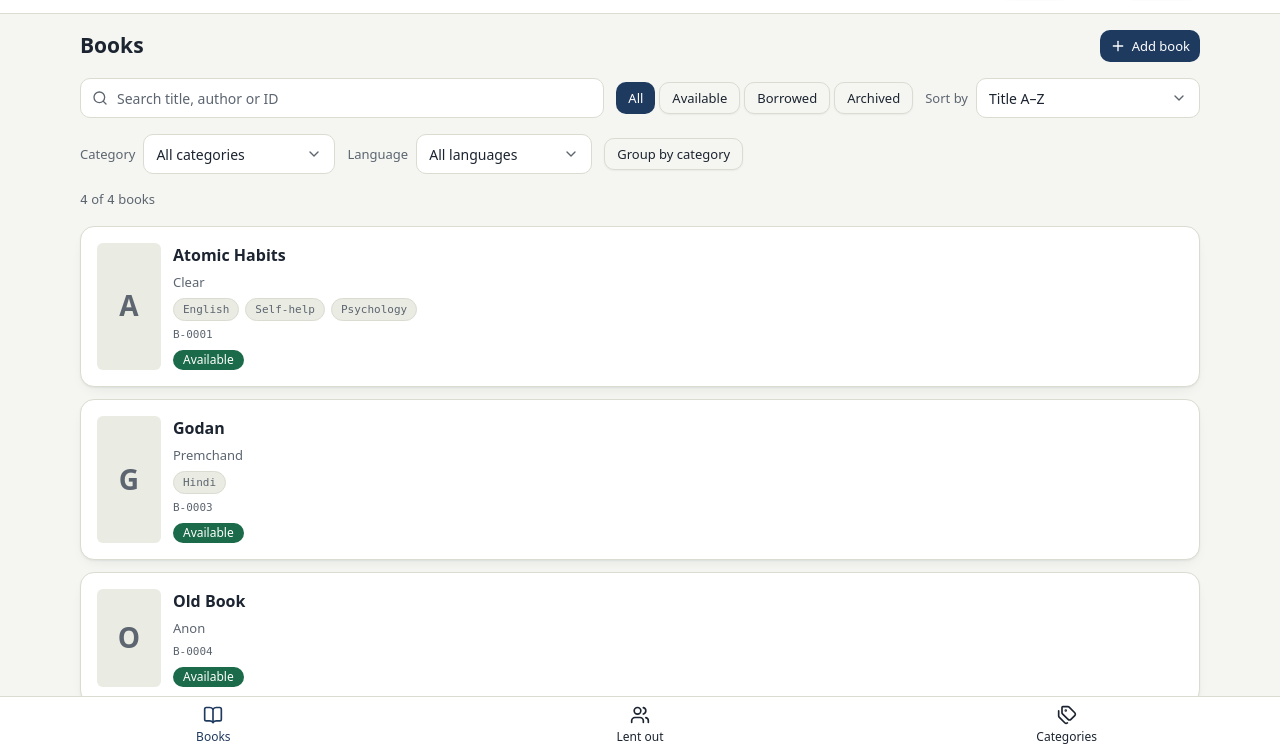
Test: group by category › splits the books under a heading per active category; a book in two categories appears in both; the rest go last
Expected: the text "Atomic Habits" is shown, [173,244,286,266]
Step 1. Click the button "Group by category" → (674, 154), box [604,138,743,170]
(page scrolled)
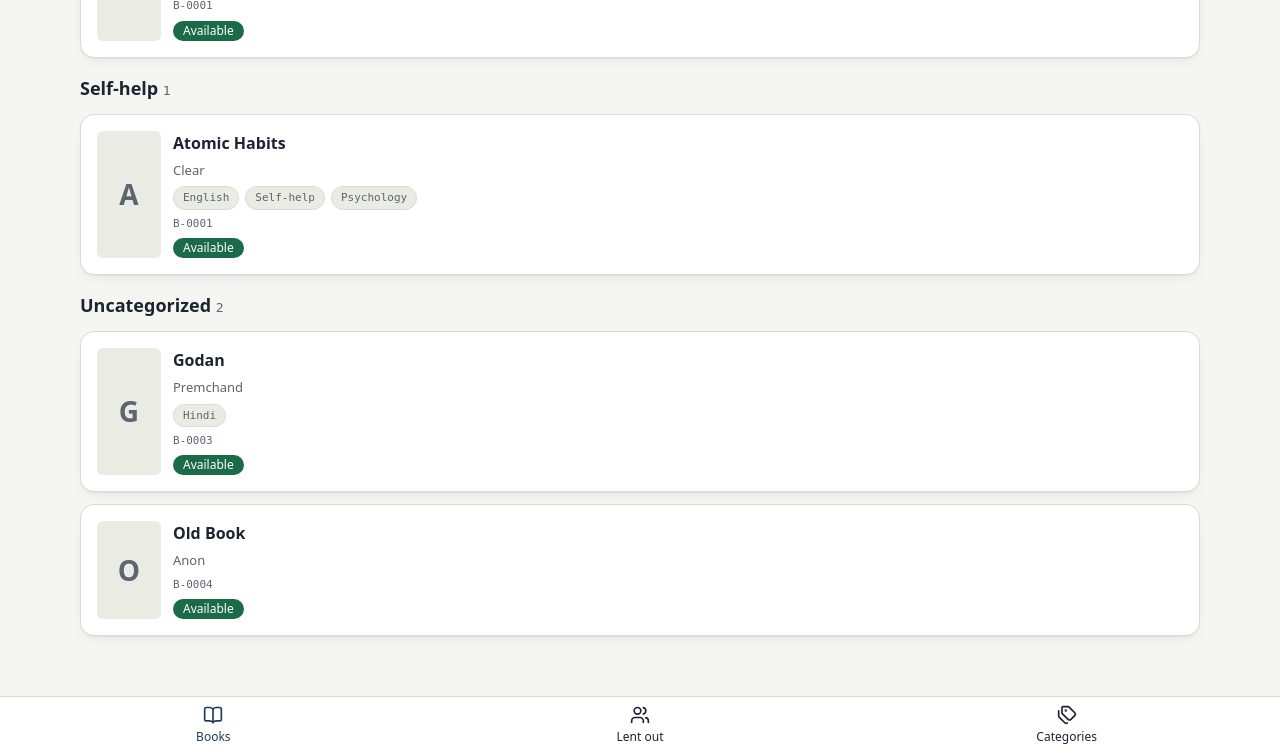
Expected: the text "Old Book" is shown, [173,522,245,544]
Expected: the text "Atomic Habits" is shown 2 times
